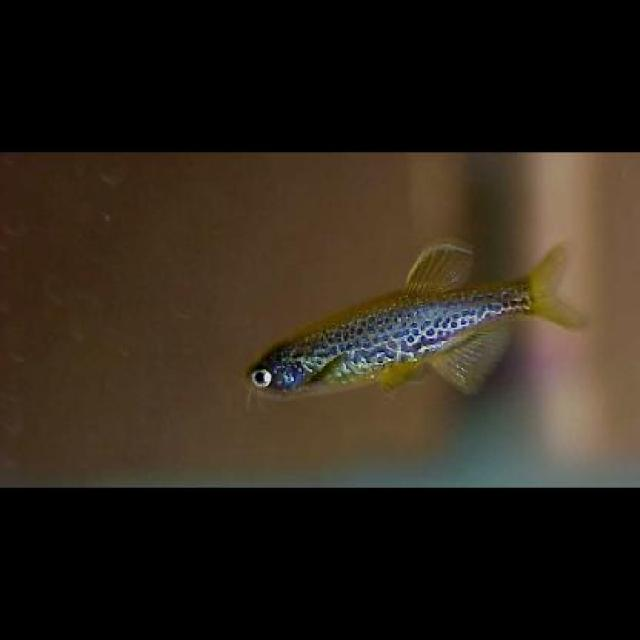ZebraFish: (254, 241, 586, 399)
